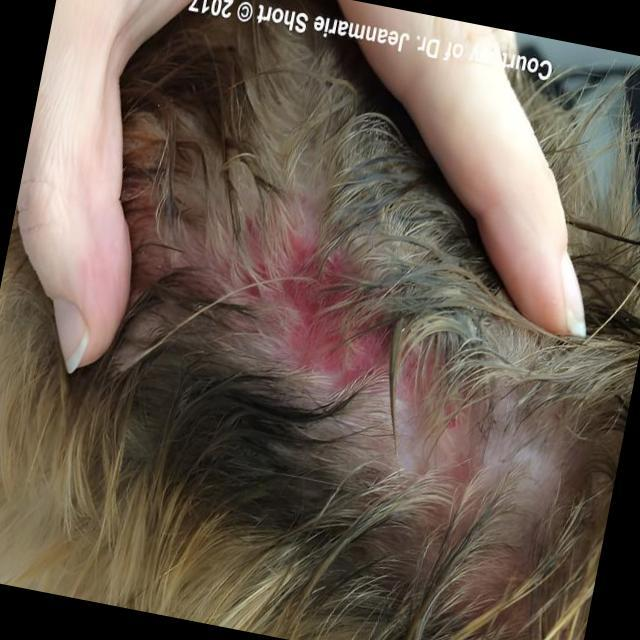allergic dermatitis: (191, 179, 473, 504)
